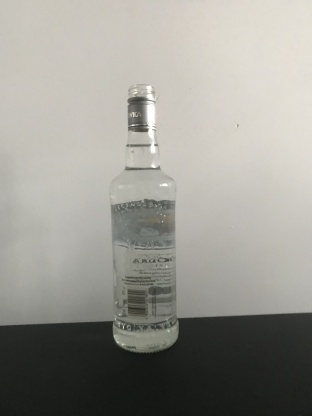nakretka: (125, 83, 157, 132)
